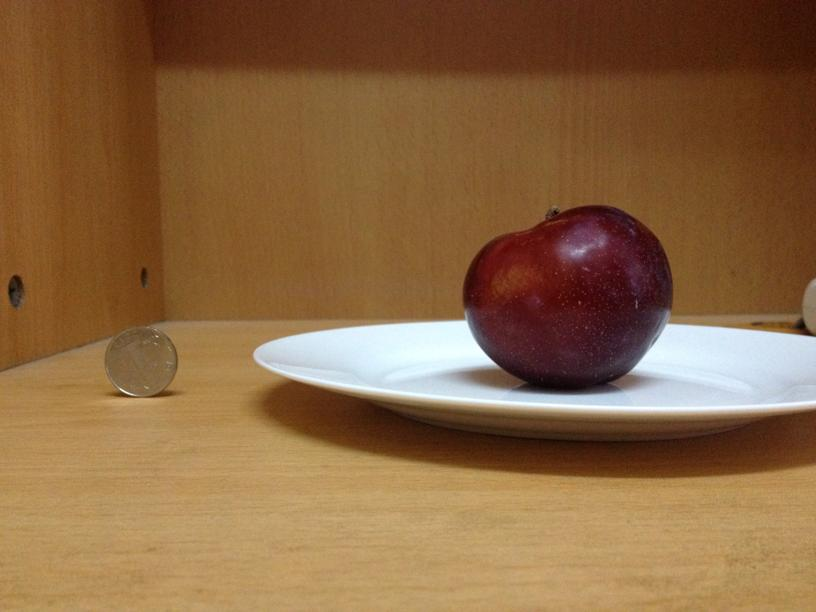coin: (105, 331, 181, 398)
plum: (447, 198, 672, 387)
